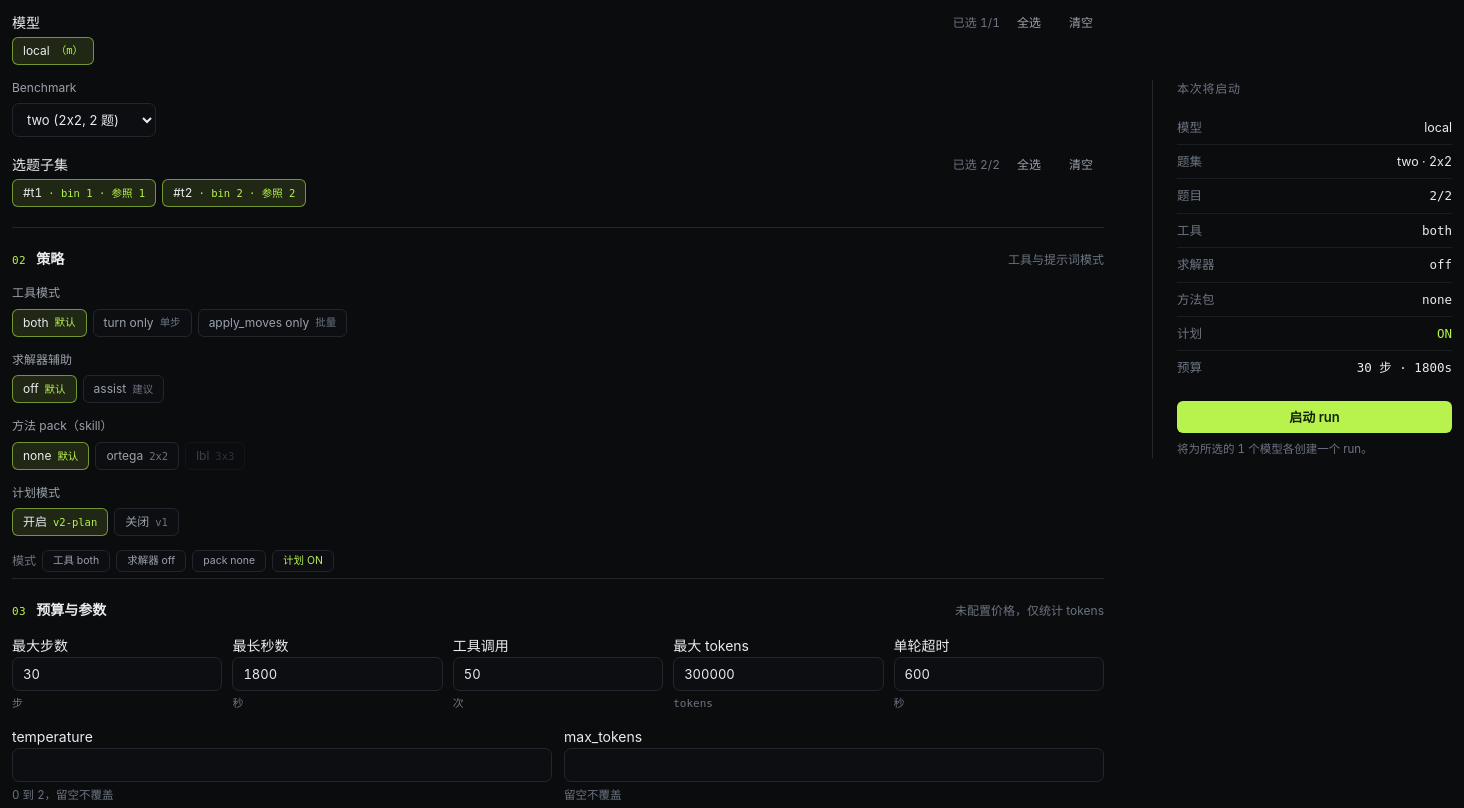
Scenario: NewRunView › rejects max_moves 清空 before starting a run
(page scrolled)
Clear the number field named "max_moves" at (117, 674), box [12,657,222,691]
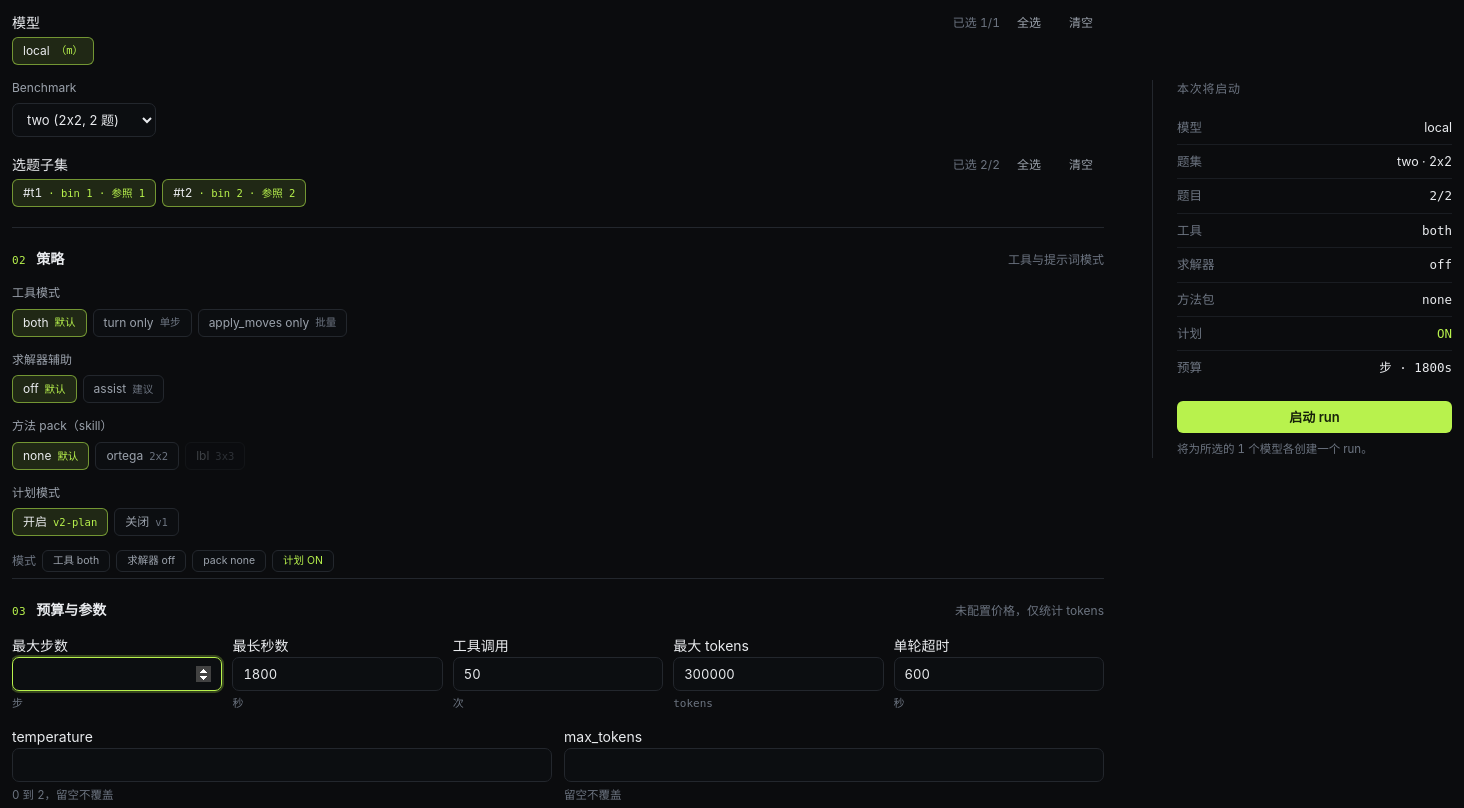
Click the button "启动 run" at (1314, 417), box [1177,401,1452,433]
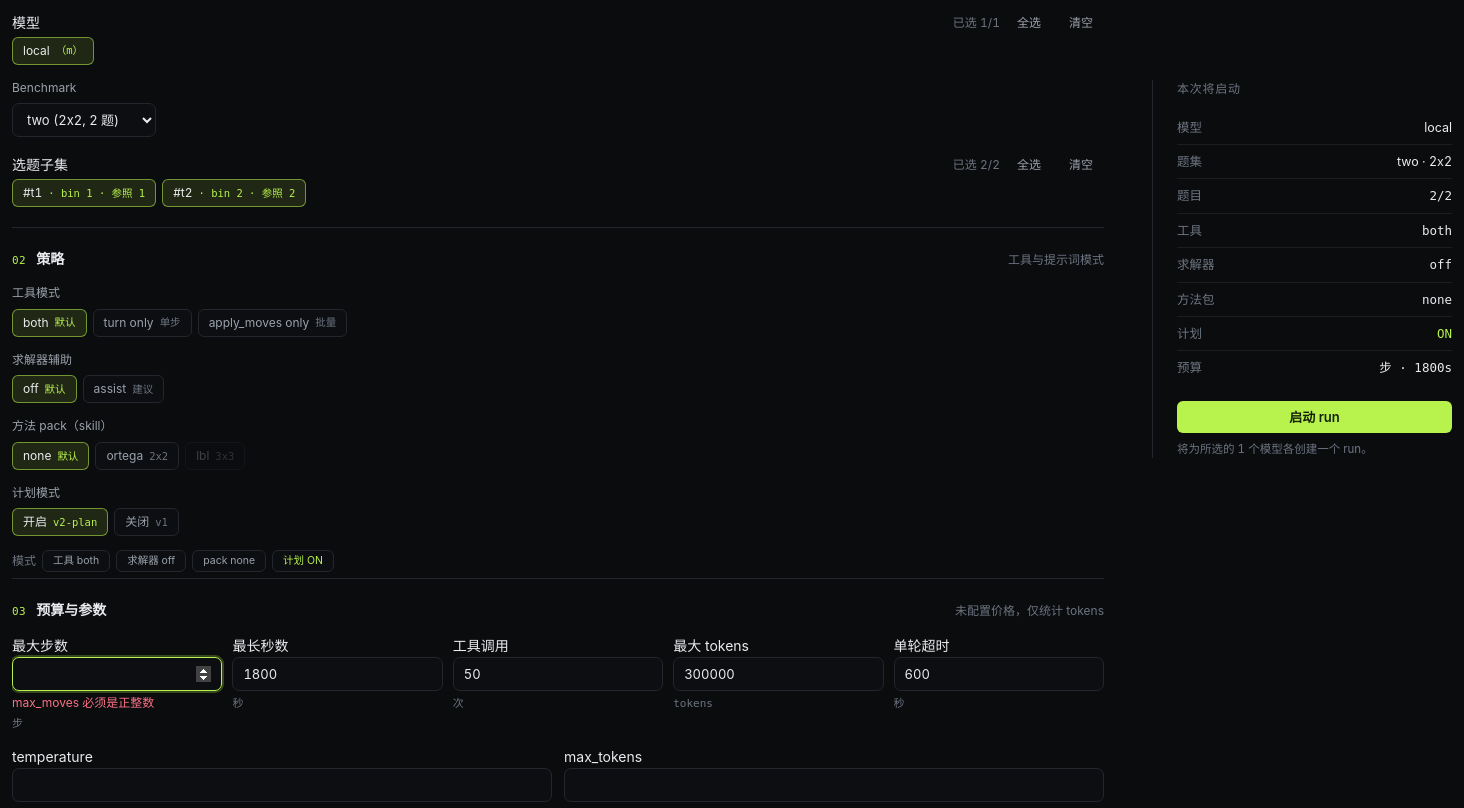
Now the text "max_moves 必须是正整数" is shown, box [12,695,154,710]
